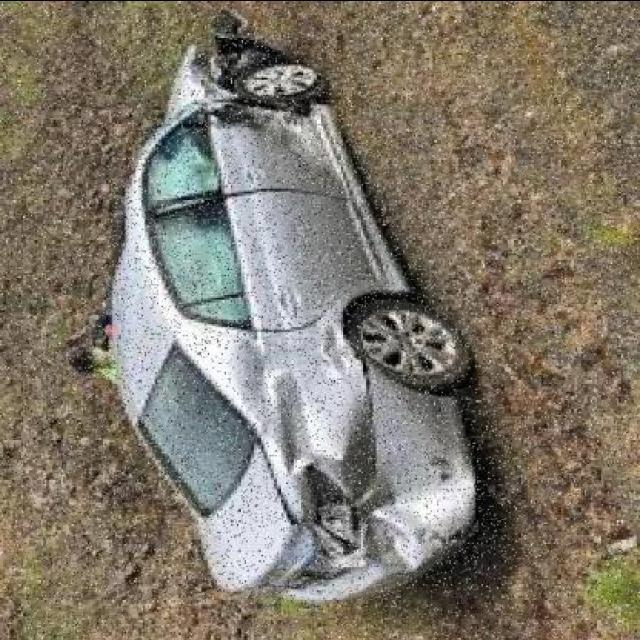Taillight-Damage: (286, 440, 356, 591)
doorouter-dent: (219, 103, 348, 192)
quaterpanel-dent: (251, 329, 373, 468)
rear-bumper-dent: (350, 437, 486, 620)
